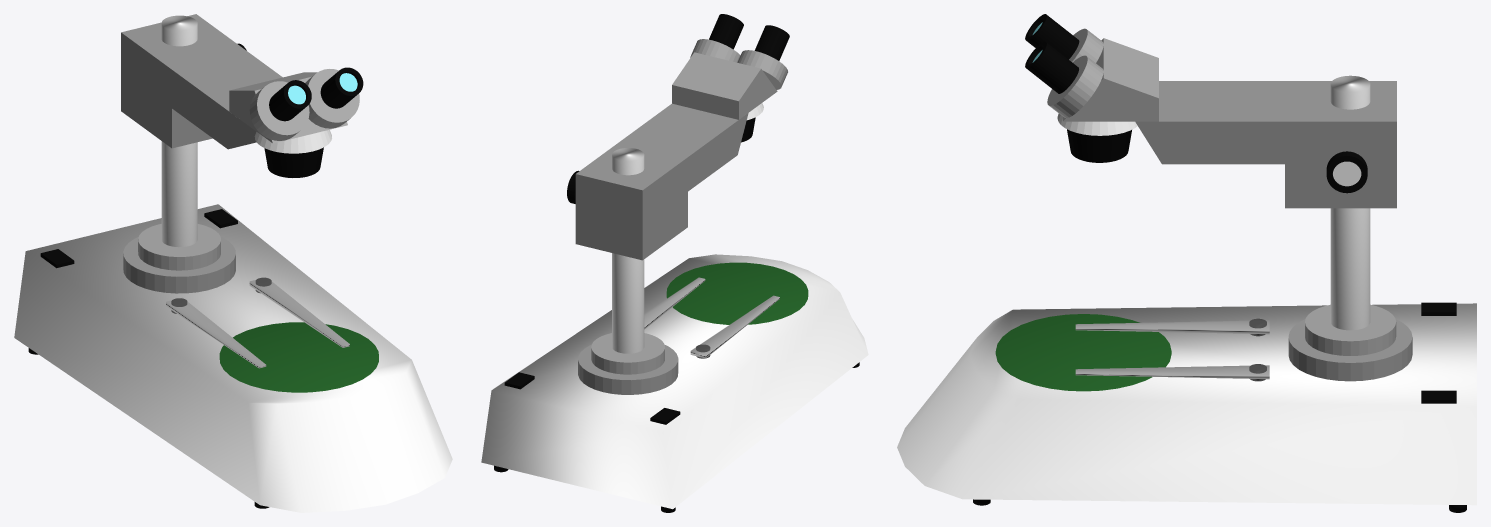
File: microscope.fbx
The picture shows the model from 3 angles, left to right: view 1: azimuth 30°, elevation 25°; view 2: azimuth 150°, elevation 25°; view 3: azimuth 270°, elevation 25°; orthographic projection. The views are drawn at different scales.
Parts seen in each view (by area): view 1: Plane, Cube.002, Cylinder.002, Cylinder.005, Cylinder.003, Cube, Cylinder.004, Cylinder.007, Cylinder.006, Cube.003, Cylinder.011, Cylinder.008 (+3 smaller); view 2: Plane, Cube.002, Cylinder.002, Cube.003, Cylinder.005, Cylinder.003, Cylinder.004, Cube, Cylinder.007, Cylinder.009, Cylinder.008, Cylinder.006 (+1 smaller); view 3: Plane, Cube.002, Cylinder.002, Cylinder.005, Cube.003, Cube, Cylinder.003, Cylinder.004, Cylinder.006, Cylinder.008, Cylinder.011, Cylinder.013 (+4 smaller).
Part boxes in pixels (x1,y1,x2,y2): Plane: (14, 204, 452, 512); Cube.002: (121, 14, 282, 149); Cylinder.002: (219, 322, 378, 392); Cylinder.005: (161, 15, 197, 247); Cylinder.003: (123, 237, 235, 293); Cube: (166, 277, 349, 368); Cylinder.004: (138, 224, 220, 270); Cylinder.007: (249, 81, 309, 140); Cylinder.006: (305, 69, 359, 128); Cube.003: (229, 72, 347, 143); Cylinder.011: (264, 147, 323, 177); Cylinder.008: (320, 67, 363, 108); Plane: (481, 254, 868, 509); Cube.002: (575, 103, 748, 260); Cylinder.002: (666, 262, 808, 324); Cube.003: (672, 52, 777, 119); Cylinder.005: (612, 148, 644, 353); Cylinder.003: (578, 344, 678, 394); Cylinder.004: (591, 333, 664, 374); Cube: (644, 277, 779, 358); Cylinder.007: (737, 50, 787, 89); Cylinder.009: (754, 25, 789, 60); Cylinder.008: (709, 14, 743, 49); Cylinder.006: (690, 39, 740, 62); Plane: (897, 303, 1476, 505); Cube.002: (1135, 81, 1396, 208); Cylinder.002: (995, 314, 1171, 391); Cylinder.005: (1330, 75, 1370, 330); Cube.003: (1063, 38, 1158, 121); Cube: (1075, 318, 1269, 381); Cylinder.003: (1288, 319, 1412, 381); Cylinder.004: (1305, 304, 1396, 355); Cylinder.006: (1047, 55, 1103, 118); Cylinder.008: (1025, 41, 1078, 93); Cylinder.011: (1067, 129, 1131, 162); Cylinder.013: (1326, 151, 1367, 193).
Bounding box in the file's own units: 92.34 × 160 × 196.
